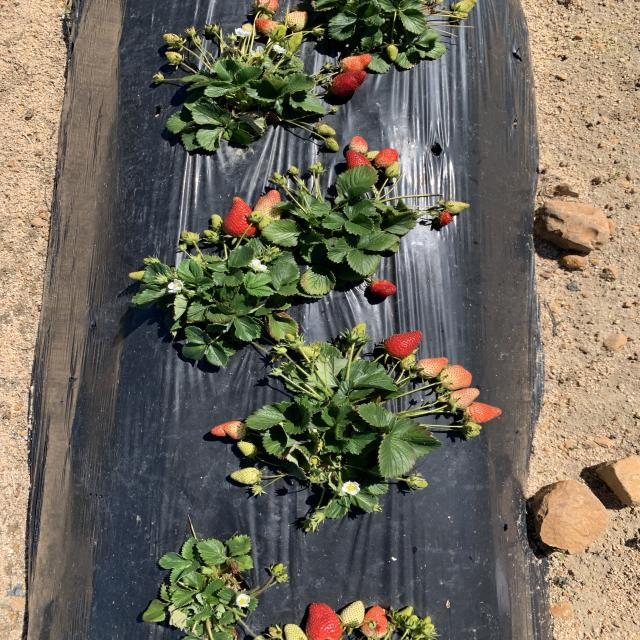unripe: (221, 196, 259, 237), (302, 601, 341, 640), (382, 330, 426, 358), (344, 150, 374, 186), (326, 69, 367, 95), (362, 606, 390, 636), (372, 276, 399, 299), (376, 147, 401, 169), (342, 54, 374, 70), (435, 210, 455, 227)
